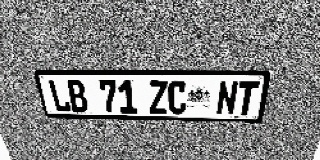1: (116, 80, 137, 114)
7: (98, 80, 120, 113)
B: (65, 80, 89, 113)
C: (168, 81, 187, 114)
L: (47, 80, 72, 112)
N: (216, 81, 239, 115)
T: (235, 81, 260, 116)
Z: (148, 81, 168, 114)
